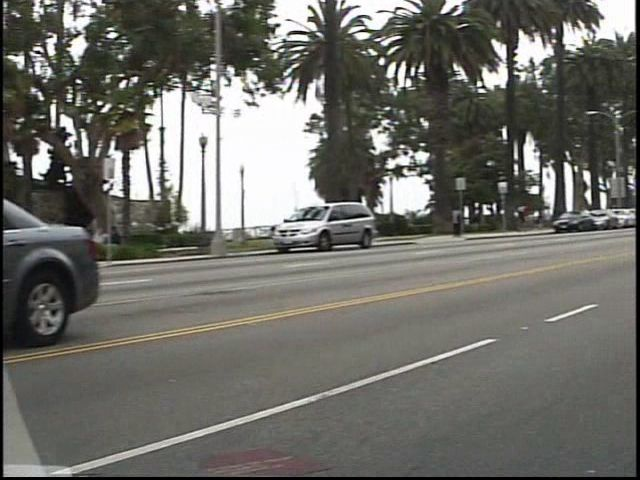person: (458, 202, 479, 241), (526, 199, 545, 234)
